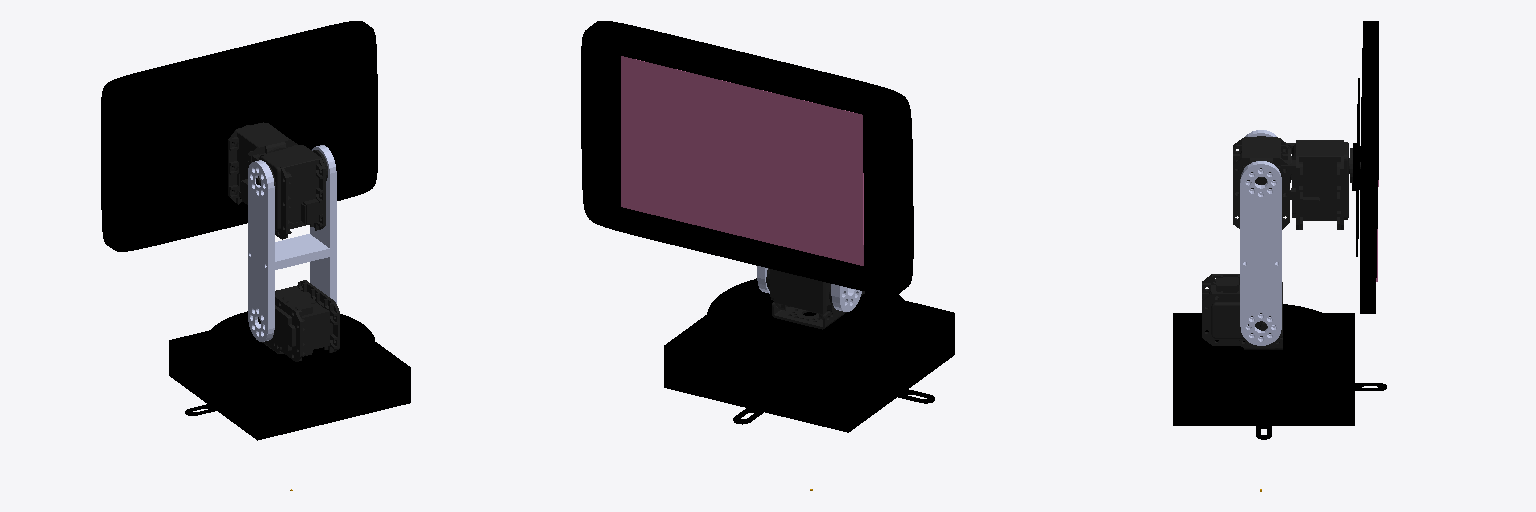
URDF robot description (mobi_head_urdf):
<robot
  name="mobi_head_urdf">
  <link name="base_footprint">
		<visual>
			<origin xyz="0 0 0" rpy="0 0 0"/>
			<geometry>
				<box size="0.001 0.001 0.001" />
			</geometry>
		</visual>
	</link>
  <joint name="fixed" type="fixed">
    <parent link="base_footprint"/>
    <child link="base_link"/>
  </joint>
  <link
    name="base_link">
    <inertial>
      <origin
        xyz="0 0 0.125"
        rpy="0 0 0" />
      <mass
        value="10.0" />
      <inertia ixx="1.0" ixy="0.0" ixz="0.0" iyy="1.0" iyz="0.0" izz="1.0"/>
    </inertial>
    <visual>
      <origin
        xyz="0 0 0.125"
        rpy="0 0 0" />
      <geometry>
        <mesh
          filename="package://mobi_head/urdf/meshes/base_link.STL" />
      </geometry>
      <material
        name="">
        <color
          rgba="0 0 0 1" />
      </material>
    </visual>
    <collision>
      <origin
        xyz="0 0 0.125"
        rpy="0 0 0" />
      <geometry>
        <mesh
          filename="package://mobi_head/urdf/meshes/base_link.STL" />
      </geometry>
    </collision>
  </link>

  <!-- ======================================================== -->

  <link
    name="Neck_Pan_Link">
    <inertial>
      <origin
        xyz="0 0 0"
        rpy="0 0 0" />
      <mass
        value="0.09" />
 	<inertia ixx="0.0001" ixy="0.0" ixz="0.0" iyy="0.0001" iyz="0.0" izz="0.0001"/>
    </inertial>
    <visual>
      <origin
        xyz="0 0 0"
        rpy="0 0 0" />
      <geometry>
        <mesh
          filename="package://mobi_head/urdf/meshes/Neck_Pan_Link.STL" />
      </geometry>
      <material
        name="">
        <color
          rgba="0.1569 0.1569 0.1569 1" />
      </material>
    </visual>
    <collision>
      <origin
        xyz="0 0 0"
        rpy="0 0 0" />
      <geometry>
        <mesh
          filename="package://mobi_head/urdf/meshes/Neck_Pan_Link.STL" />
      </geometry>
    </collision>
  </link>
  <joint
    name="Neck_Pan_Joint"
    type="revolute">
    <origin
      xyz="0 0 0.125"
      rpy="0 1.5708 0" />
    <parent
      link="base_link" />
    <child
      link="Neck_Pan_Link" />
    <axis
      xyz="-1 0 0" />
    <limit
      lower="-1.5708"
      upper="1.5708"
      effort="3.1"
      velocity="3.1416" />
  </joint>
  <transmission name="Neck_Pan_Transmission">
     <type>transmission_interface/SimpleTransmission</type>
     <joint name="Neck_Pan_Joint">
        <hardwareInterface>hardware_interface/PositionJointInterface</hardwareInterface>
     </joint>
    <actuator name="neck_pan_motor">
      <hardwareInterface>hardware_interface/PositionJointInterface</hardwareInterface>
      <mechanicalReduction>1</mechanicalReduction>
    </actuator>
  </transmission>

  <!-- ======================================================== -->

  <link
    name="Neck_Tilt_Link">
    <inertial>
      <origin
        xyz="0.048937 -0.02 0"
        rpy="0 0 0" />
      <mass
        value="0.1" />
 	<inertia ixx="0.0001" ixy="0.0" ixz="0.0" iyy="0.0001" iyz="0.0" izz="0.0001"/>
    </inertial>
    <visual>
      <origin
        xyz="0 0 0"
        rpy="0 0 0" />
      <geometry>
        <mesh
          filename="package://mobi_head/urdf/meshes/Neck_Tilt_Link.STL" />
      </geometry>
      <material
        name="">
        <color
          rgba="0.79216 0.81961 0.93333 1" />
      </material>
    </visual>
    <collision>
      <origin
        xyz="0 0 0"
        rpy="0 0 0" />
      <geometry>
        <mesh
          filename="package://mobi_head/urdf/meshes/Neck_Tilt_Link.STL" />
      </geometry>
    </collision>
  </link>
  <joint
    name="Neck_Tilt_Joint"
    type="revolute">
    <origin
      xyz="0 0 -0.02"
      rpy="-1.5708 0 3.1416" />
    <parent
      link="Neck_Pan_Link" />
    <child
      link="Neck_Tilt_Link" />
    <axis
      xyz="0 1 0" />
    <limit
      lower="-1.5708"
      upper="1.5708"
      effort="3.1"
      velocity="3.14159265" />
  </joint>
  <transmission name="Neck_Tilt_Transmission">
     <type>transmission_interface/SimpleTransmission</type>
     <joint name="Neck_Tilt_Joint">
        <hardwareInterface>hardware_interface/PositionJointInterface</hardwareInterface>
     </joint>
    <actuator name="neck_tilt_motor">
      <hardwareInterface>hardware_interface/PositionJointInterface</hardwareInterface>
      <mechanicalReduction>1</mechanicalReduction>
    </actuator>
  </transmission>

  <!-- ======================================================== -->

  <link
    name="Head_Tilt_Link">
    <inertial>
      <origin
        xyz="-0.018556 -0.010813 -0.020532"
        rpy="0 0 0" />
      <mass
        value="0.18" />
 	<inertia ixx="0.0001" ixy="0.0" ixz="0.0" iyy="0.0001" iyz="0.0" izz="0.0001"/>
    </inertial>
    <visual>
      <origin
        xyz="0 0 0"
        rpy="0 0 0" />
      <geometry>
        <mesh
          filename="package://mobi_head/urdf/meshes/Head_Tilt_Link.STL" />
      </geometry>
      <material
        name="">
        <color
          rgba="0.1569 0.1569 0.1569 1" />
      </material>
    </visual>
    <collision>
      <origin
        xyz="0 0 0"
        rpy="0 0 0" />
      <geometry>
        <mesh
          filename="package://mobi_head/urdf/meshes/Head_Tilt_Link.STL" />
      </geometry>
    </collision>
  </link>
  <joint
    name="Head_Tilt_Joint"
    type="revolute">
    <origin
      xyz="0.1 0 0"
      rpy="-1.5708 -1.5615 -1.1169E-13" />
    <parent
      link="Neck_Tilt_Link" />
    <child
      link="Head_Tilt_Link" />
    <axis
      xyz="0 0 -1" />
    <limit
      lower="-1.5708"
      upper="1.5708"
      effort="3.1"
      velocity="3.14159265" />
  </joint>
  <transmission name="Head_Tilt_Transmission">
     <type>transmission_interface/SimpleTransmission</type>
     <joint name="Head_Tilt_Joint">
        <hardwareInterface>hardware_interface/PositionJointInterface</hardwareInterface>
     </joint>
    <actuator name="head_tilt_motor">
      <hardwareInterface>hardware_interface/PositionJointInterface</hardwareInterface>
      <mechanicalReduction>1</mechanicalReduction>
    </actuator>
  </transmission>

  <!-- ======================================================== -->

  <link
    name="Head_Roll_Link">
    <inertial>
      <origin
        xyz="2.235E-09 0.00062838 0.0046157"
        rpy="0 0 0" />
      <mass
        value="0.3" />
 	<inertia ixx="0.0001" ixy="0.0" ixz="0.0" iyy="0.0001" iyz="0.0" izz="0.0001"/>
    </inertial>
    <visual>
      <origin
        xyz="0 0 0"
        rpy="0 3.14159265 0" />
      <geometry>
        <mesh
          filename="package://mobi_head/urdf/meshes/Head_Roll_Link.STL" />
      </geometry>
      <material
        name="">
        <color
          rgba="0 0 0 1" />
      </material>
    </visual>
    <collision>
      <origin
        xyz="0 0 0"
        rpy="0 3.14159265 0" />
      <geometry>
        <mesh
          filename="package://mobi_head/urdf/meshes/Head_Roll_Link.STL" />
      </geometry>
    </collision>
  </link>
  <joint
    name="Head_Roll_Joint"
    type="revolute">
    <origin
      xyz="-0.06285 0 -0.0205"
      rpy="3.1416 -1.5708 0" />
    <parent
      link="Head_Tilt_Link" />
    <child
      link="Head_Roll_Link" />
    <axis
      xyz="0 -0.0093137 -0.99996" />
    <limit
      lower="-1.5708"
      upper="1.5708"
      effort="3.1"
      velocity="3.14159265" />
  </joint>
  <transmission name="Head_Roll_Transmission">
     <type>transmission_interface/SimpleTransmission</type>
     <joint name="Head_Roll_Joint">
        <hardwareInterface>hardware_interface/PositionJointInterface</hardwareInterface>
     </joint>
    <actuator name="head_roll_motor">
      <hardwareInterface>hardware_interface/PositionJointInterface</hardwareInterface>
      <mechanicalReduction>1</mechanicalReduction>
    </actuator>
  </transmission>

  <!-- ======================================================== -->

  <link
    name="Screen_Link">
    <inertial>
      <origin
        xyz="0.0 0.0 0.0"
        rpy="0 0 0" />
      <mass
        value="0.001" />
 	<inertia ixx="0.0001" ixy="0.0" ixz="0.0" iyy="0.0001" iyz="0.0" izz="0.0001"/>
    </inertial>
    <visual>
      <origin
        xyz="0 0 0"
        rpy="0 3.14159265 1.5708" />
      <geometry>
        <box size="0.09 0.15 0.001"/>
      </geometry>
      <material
        name="">
          <texture filename="package://mobi_head/urdf/mObi_neutral_expression_texture.png" />
      </material>
    </visual>
    <collision>
      <origin
        xyz="0 0 0"
        rpy="0 3.14159265 1.5708" />
      <geometry>
        <box size="0.09 0.15 0.001"/>
      </geometry>
    </collision>
  </link>
  <joint
    name="Screen_Joint"
    type="fixed">
    <origin
      xyz="0.0 0.0 -0.01"
      rpy="0 0 0" />
    <parent
      link="Head_Roll_Link" />
    <child
      link="Screen_Link" />
    <axis
      xyz="0 0 0" />
  </joint>

  <gazebo>
     <plugin name="gazebo_ros_control" filename="libgazebo_ros_control.so">
     </plugin>
  </gazebo>

</robot>

--- Render facts (derived) ---
The picture shows the robot from 3 angles, left to right: view 1: azimuth 30°, elevation 25°; view 2: azimuth 150°, elevation 25°; view 3: azimuth 270°, elevation 25°; orthographic projection.
Model mobi_head_urdf with 7 links and 6 joints (4 revolute, 2 fixed), rooted at base_footprint, posed all joints at 0.
Links seen in each view (by area): view 1: Head_Roll_Link, base_link, Neck_Tilt_Link, Head_Tilt_Link, Neck_Pan_Link; view 2: Screen_Link, Head_Roll_Link, base_link, Neck_Pan_Link, Neck_Tilt_Link; view 3: base_link, Head_Tilt_Link, Neck_Tilt_Link, Head_Roll_Link, Neck_Pan_Link.
Boxes of the visible links, x1,y1,x2,y2 form: Head_Roll_Link: (101, 21, 377, 251); base_link: (169, 311, 410, 440); Neck_Tilt_Link: (248, 145, 336, 341); Head_Tilt_Link: (228, 122, 327, 239); Neck_Pan_Link: (258, 280, 339, 361); Screen_Link: (621, 56, 863, 265); Head_Roll_Link: (581, 21, 913, 295); base_link: (664, 278, 954, 432); Neck_Pan_Link: (766, 268, 864, 329); Neck_Tilt_Link: (757, 266, 861, 311); base_link: (1173, 304, 1386, 439); Head_Tilt_Link: (1233, 136, 1360, 229); Neck_Tilt_Link: (1240, 130, 1281, 345); Head_Roll_Link: (1352, 21, 1378, 313); Neck_Pan_Link: (1202, 274, 1282, 349).
Size in the robot's own frame: 0.2 by 0.1343 by 0.2843 metres.
Meshes: 5 distinct files referenced, 5 mesh visuals loaded (5 binary STL).